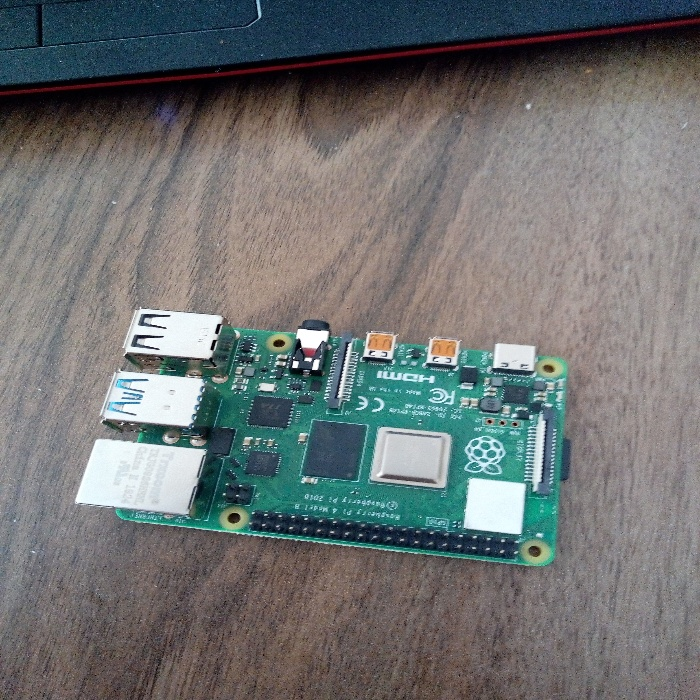raspberry: (57, 283, 575, 589)
